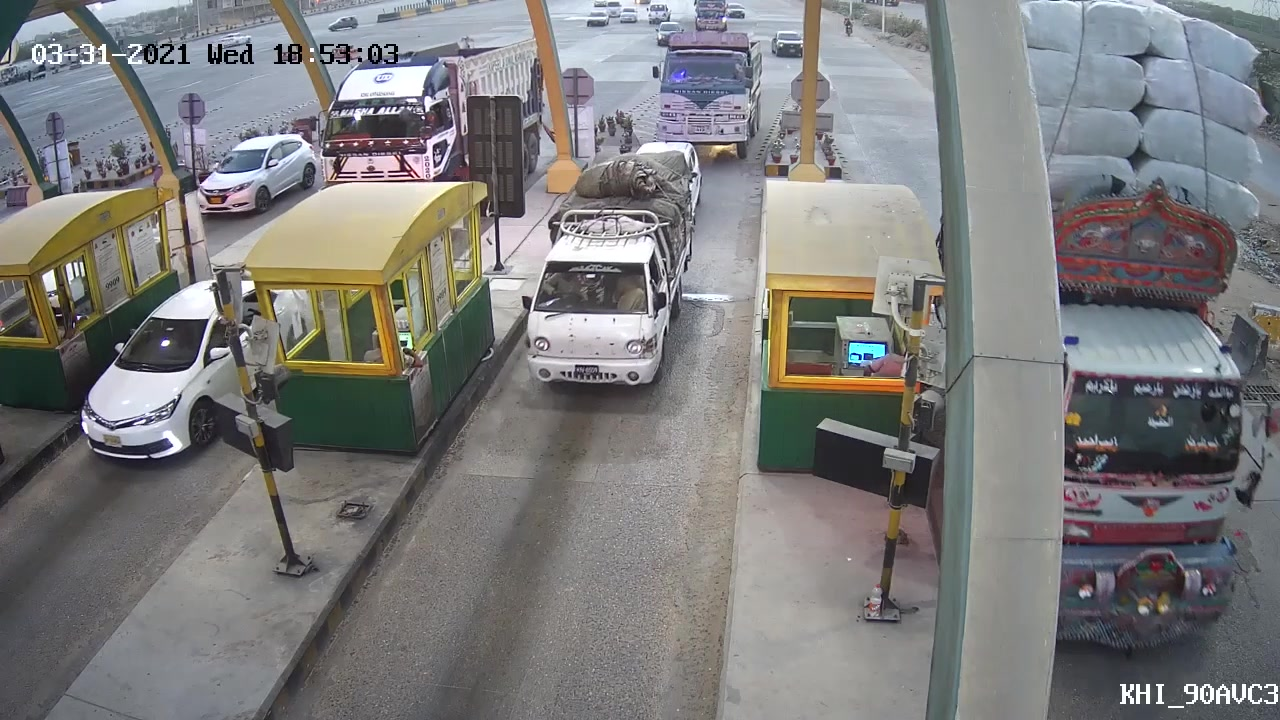F3: (515, 142, 708, 393)
F5: (656, 22, 775, 164)
